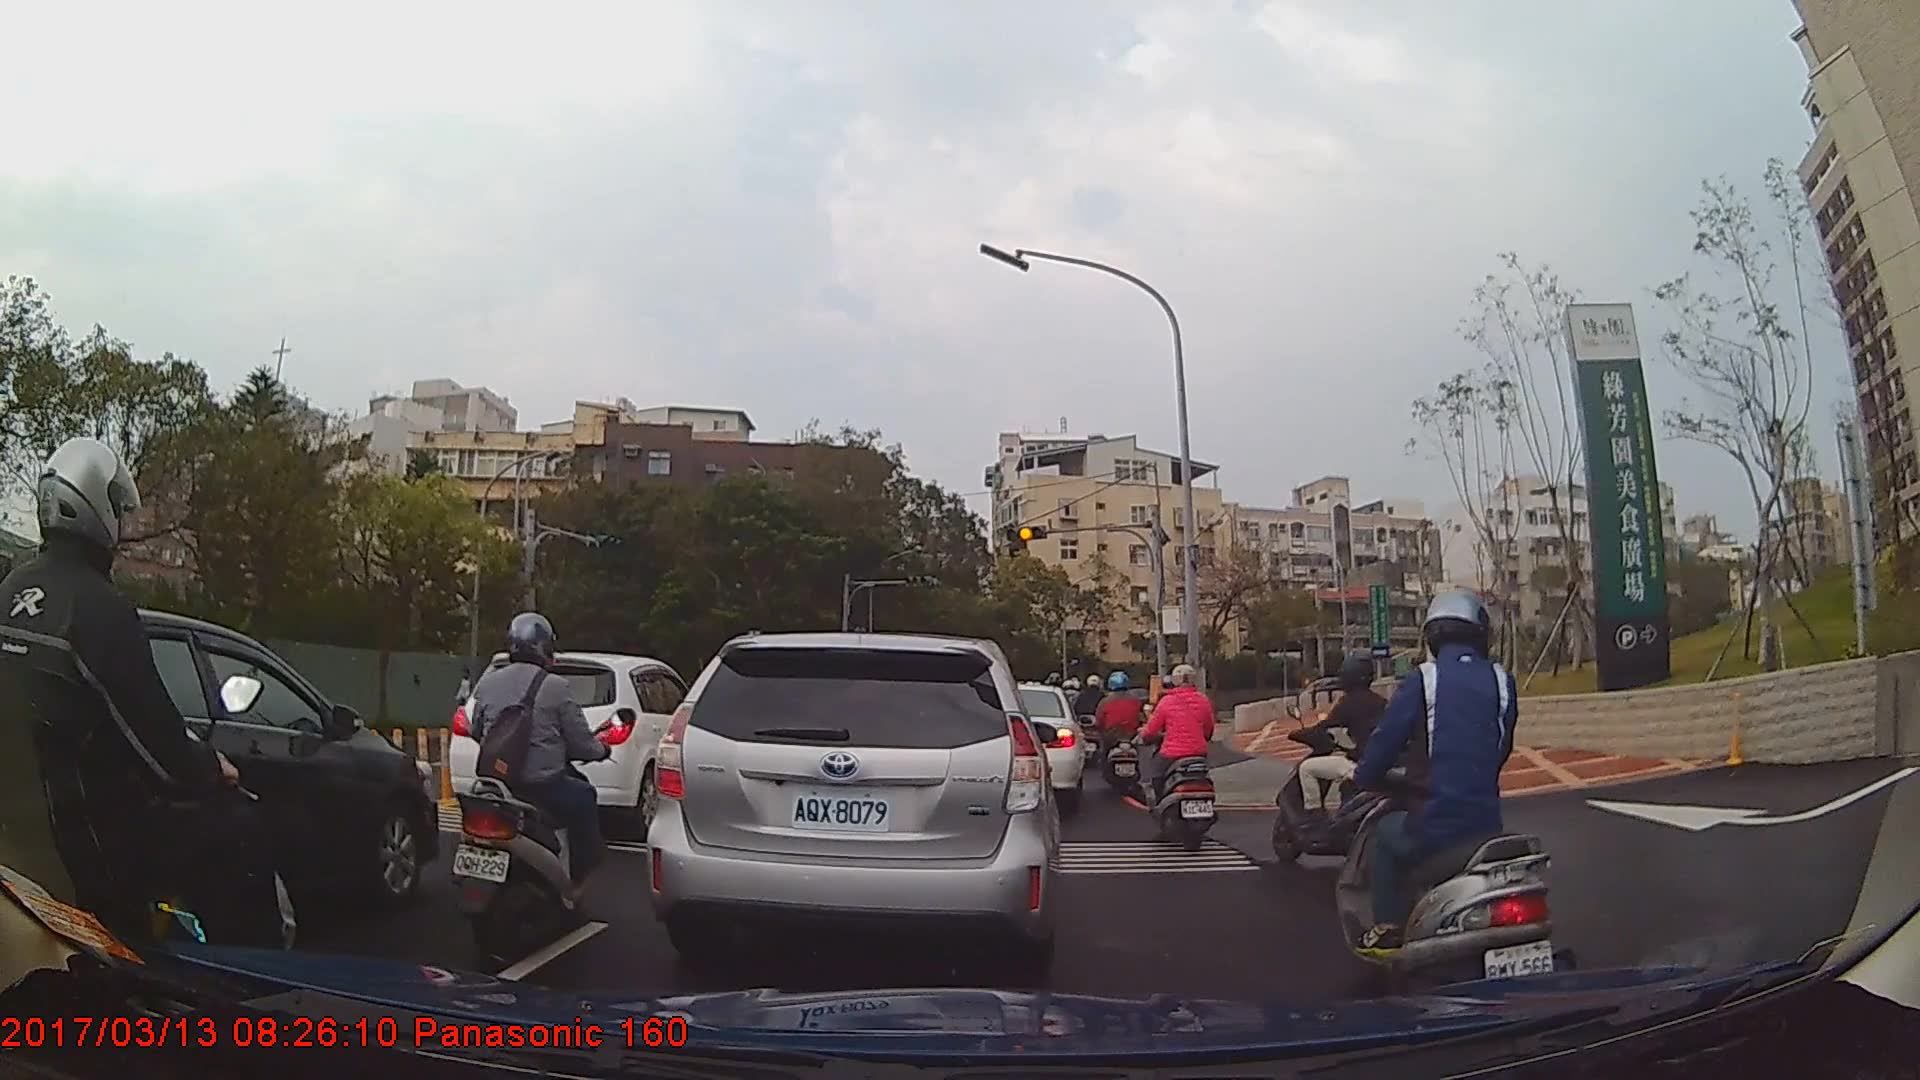pedestrian: (460, 667, 480, 727)
rider: (1, 440, 302, 1066), (1331, 590, 1570, 1027), (452, 613, 622, 951), (1267, 655, 1452, 869), (1147, 663, 1218, 856), (1091, 668, 1148, 795), (1076, 673, 1109, 770)
vehicle: (1, 588, 438, 939), (641, 629, 1060, 987), (448, 650, 714, 837), (974, 684, 1085, 807)
